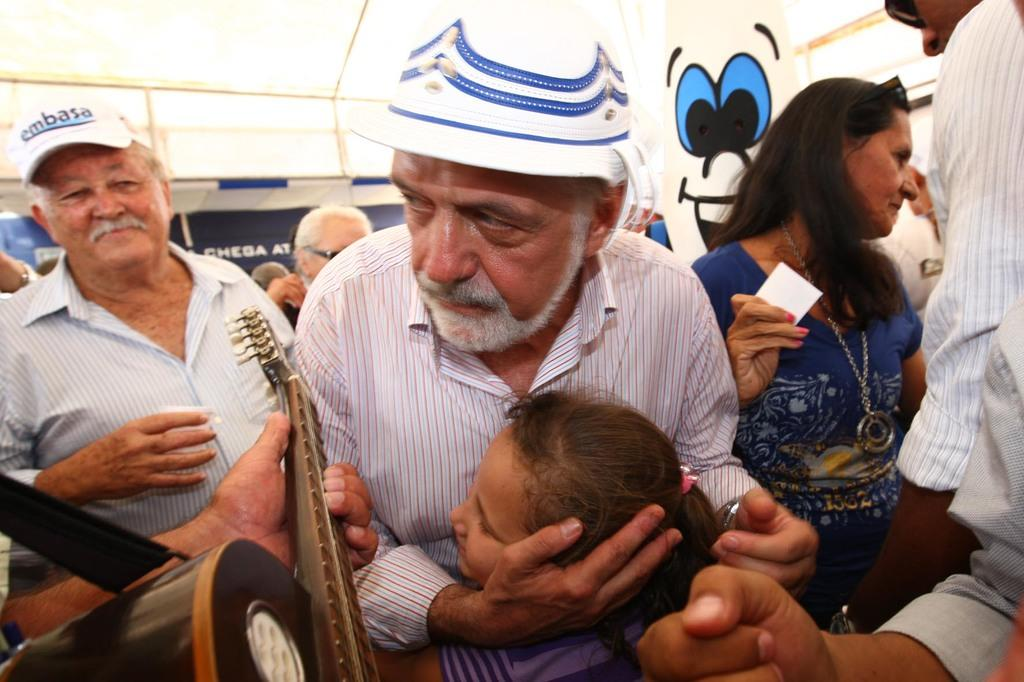Hat: (350, 0, 662, 234), (4, 90, 148, 189)
